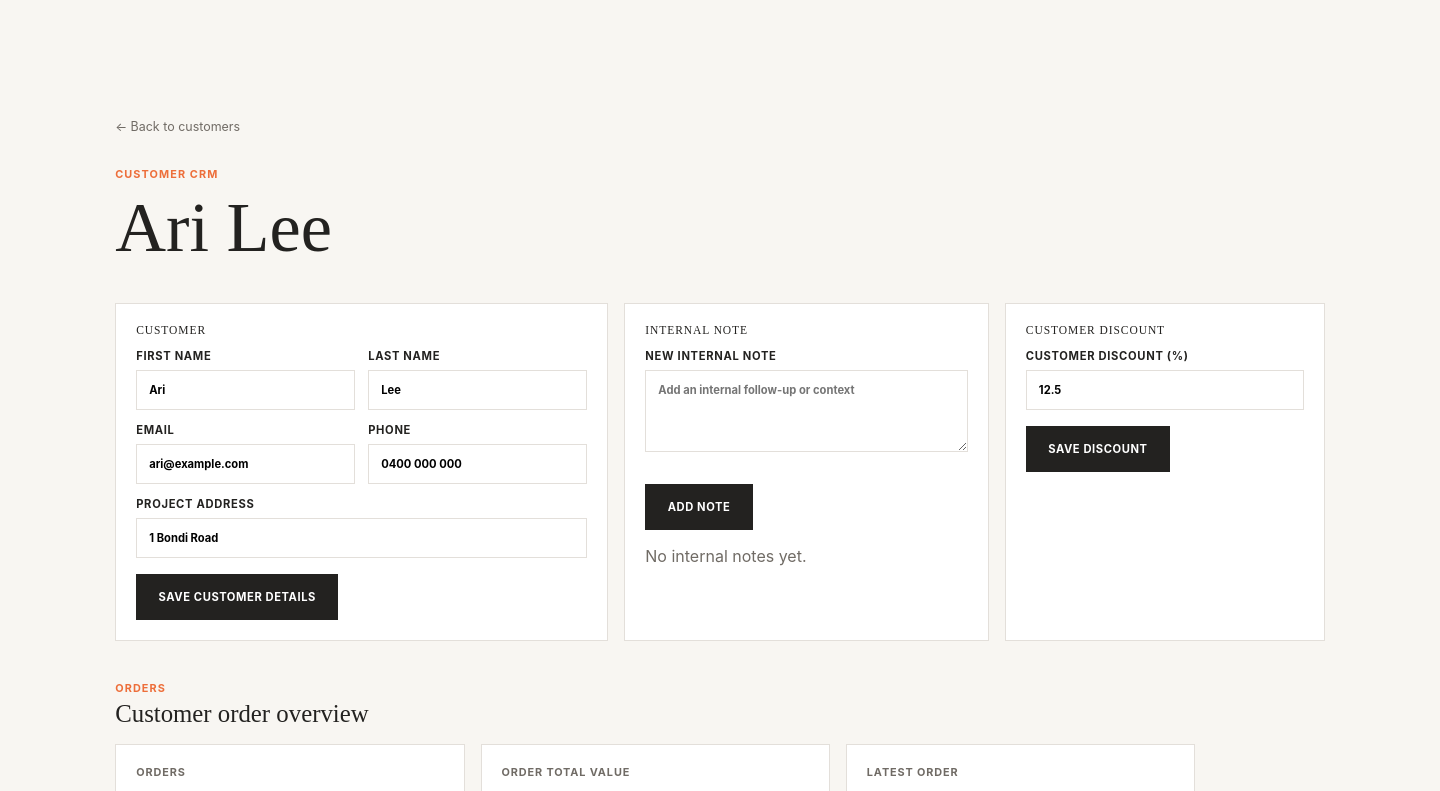
Scenario: shows an editable CRM summary and order history for a customer
Expected: the field labelled "Last name" holds "Lee", x1=368 y1=370 x2=587 y2=410
Expected: the field labelled "Email" holds "ari@example.com", x1=136 y1=444 x2=355 y2=484
Step 1. Replace the text in the field labelled "First name" with "Ariel" → (246, 390), box x1=136 y1=370 x2=355 y2=410
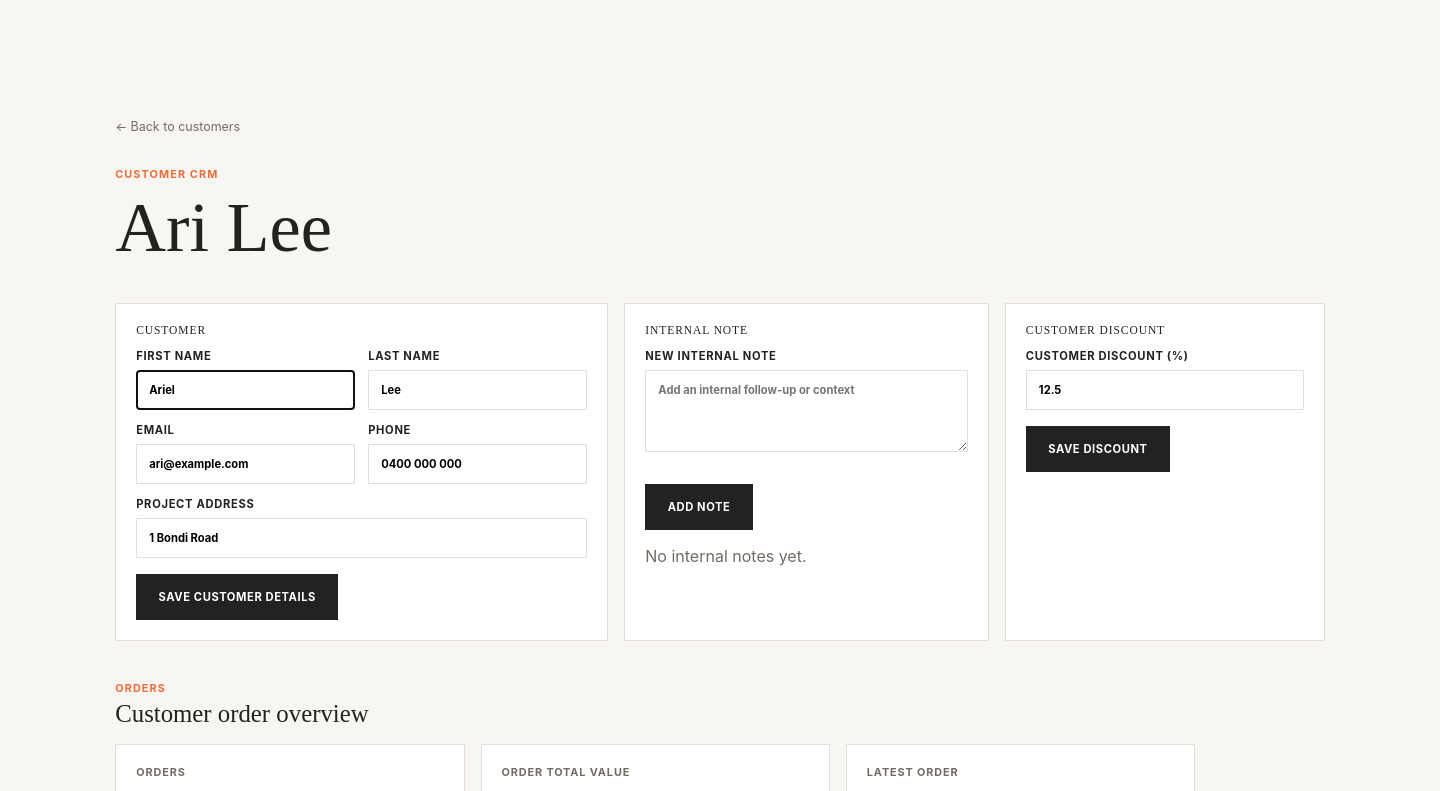
Step 2. Click the button "Save customer details" → (237, 597), box x1=136 y1=574 x2=338 y2=620
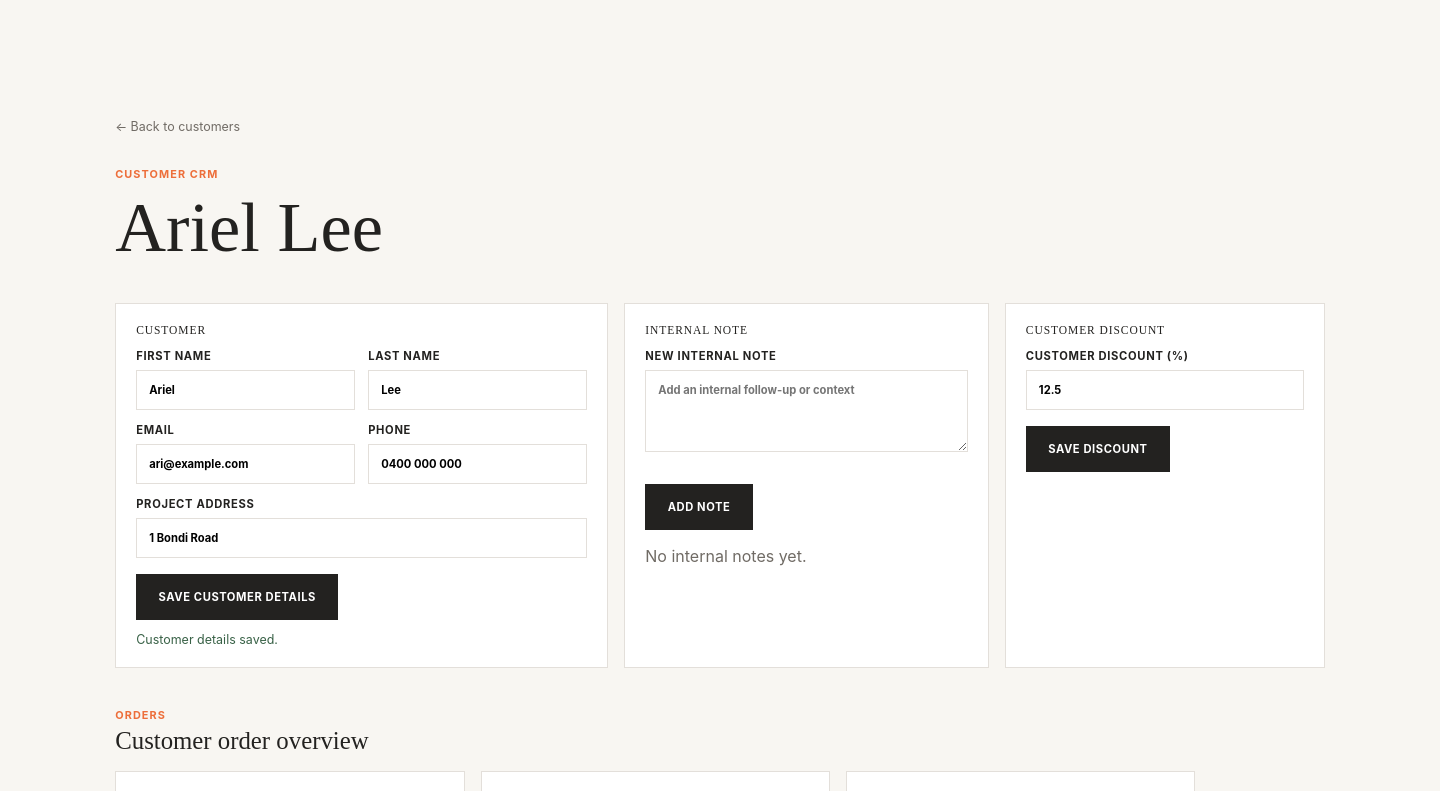
Expected: the text "Customer details saved." is shown, x1=136 y1=632 x2=278 y2=647
